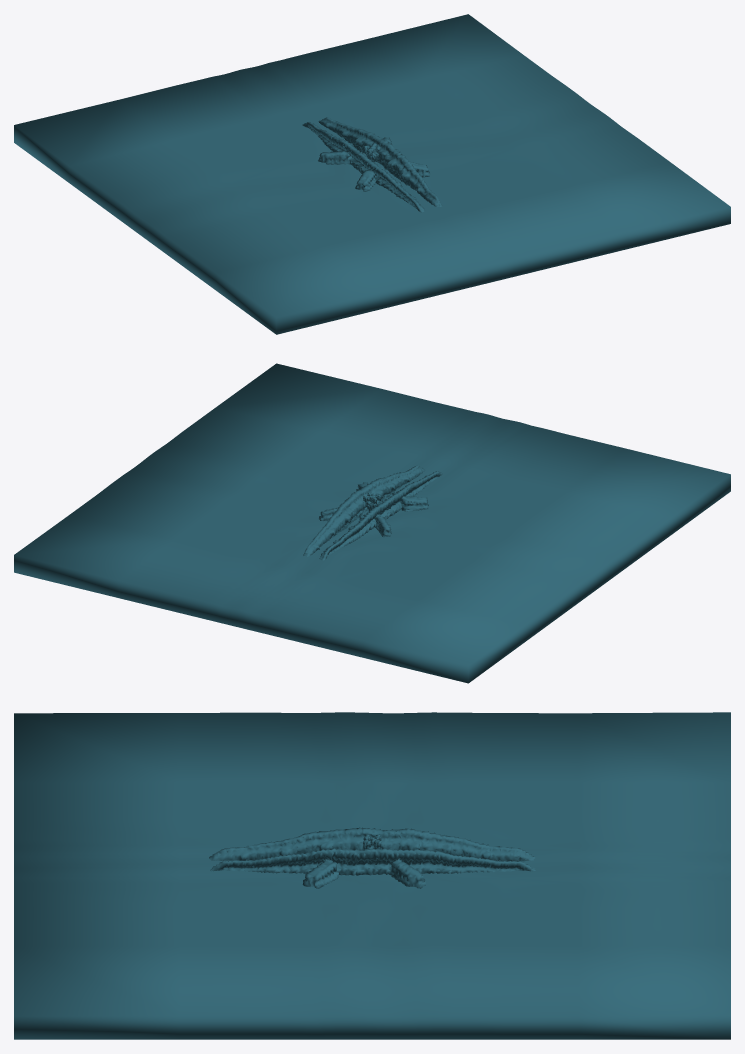
Rendered from fused-reef-terraces-high.glb.
3 views of the same model, one above another, from view 1: azimuth 30°, elevation 25°; view 2: azimuth 150°, elevation 25°; view 3: azimuth 270°, elevation 25° (orthographic). The views are drawn at different scales.
Visible parts, largest first — view 1: ISLAND_7_FUSED_REEF_BASIN_FLOOR, ISLAND_7_FUSED_RIGHT_TERRACED_BANK.001, ISLAND_7_FUSED_LEFT_TERRACED_BANK.001; view 2: ISLAND_7_FUSED_REEF_BASIN_FLOOR, ISLAND_7_FUSED_RIGHT_TERRACED_BANK.001, ISLAND_7_FUSED_LEFT_TERRACED_BANK.001; view 3: ISLAND_7_FUSED_REEF_BASIN_FLOOR, ISLAND_7_FUSED_RIGHT_TERRACED_BANK.001, ISLAND_7_FUSED_LEFT_TERRACED_BANK.001.
Boxes of the visible parts, x1,y1,x2,y2 form: ISLAND_7_FUSED_REEF_BASIN_FLOOR: [14, 14, 730, 334]; ISLAND_7_FUSED_RIGHT_TERRACED_BANK.001: [318, 117, 442, 206]; ISLAND_7_FUSED_LEFT_TERRACED_BANK.001: [302, 122, 424, 212]; ISLAND_7_FUSED_REEF_BASIN_FLOOR: [14, 363, 730, 683]; ISLAND_7_FUSED_RIGHT_TERRACED_BANK.001: [303, 465, 425, 556]; ISLAND_7_FUSED_LEFT_TERRACED_BANK.001: [319, 471, 442, 560]; ISLAND_7_FUSED_REEF_BASIN_FLOOR: [14, 712, 730, 1039]; ISLAND_7_FUSED_RIGHT_TERRACED_BANK.001: [210, 848, 535, 888]; ISLAND_7_FUSED_LEFT_TERRACED_BANK.001: [209, 827, 535, 861].
Bounding box in the file's own units: 520 × 40.14 × 520.
